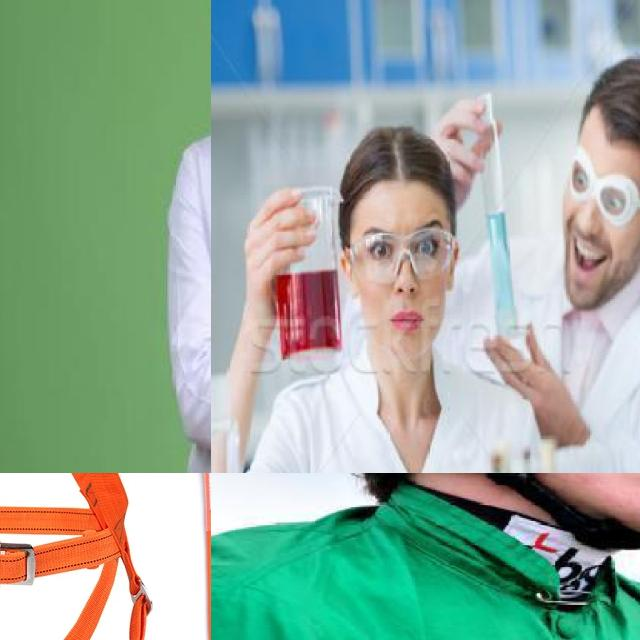Harness: (0, 473, 154, 640)
face_nomask: (361, 226, 454, 345), (564, 160, 632, 280)
glasses: (346, 228, 457, 286), (564, 144, 640, 221)
hand_noglove: (476, 321, 570, 423), (238, 183, 322, 281), (429, 94, 504, 191)
head_nohelmet: (341, 122, 452, 205), (580, 46, 640, 161)
person: (266, 119, 540, 473), (507, 59, 640, 473), (143, 0, 211, 473)
